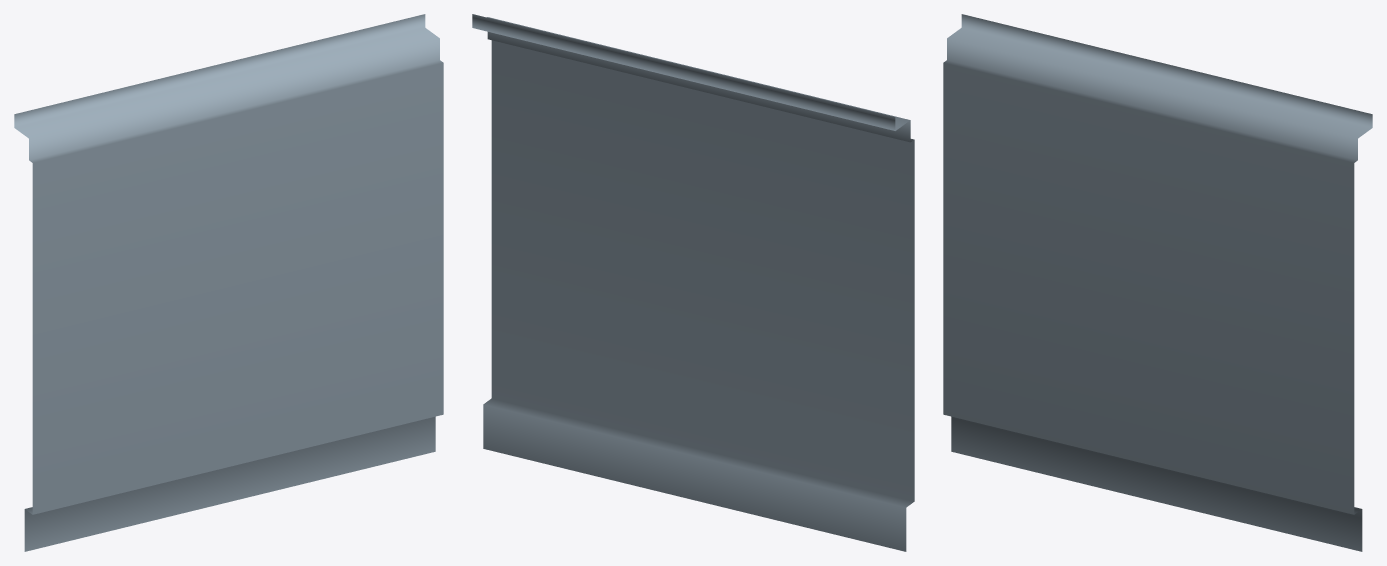
The model's file is WallLow.fbx.
3 renders of one model, left to right at view 1: azimuth 30°, elevation 25°; view 2: azimuth 150°, elevation 25°; view 3: azimuth 330°, elevation 25°, orthographic. The views are drawn at different scales.
Parts seen in each view (by area): view 1: pPlane11; view 2: pPlane11; view 3: pPlane11.
Part boxes in pixels (box(x1,y1,x2,y2)): pPlane11: box(14, 14, 443, 551); pPlane11: box(472, 14, 914, 551); pPlane11: box(943, 14, 1372, 551).
Bounding box in the file's own units: 2 × 2 × 0.156.
